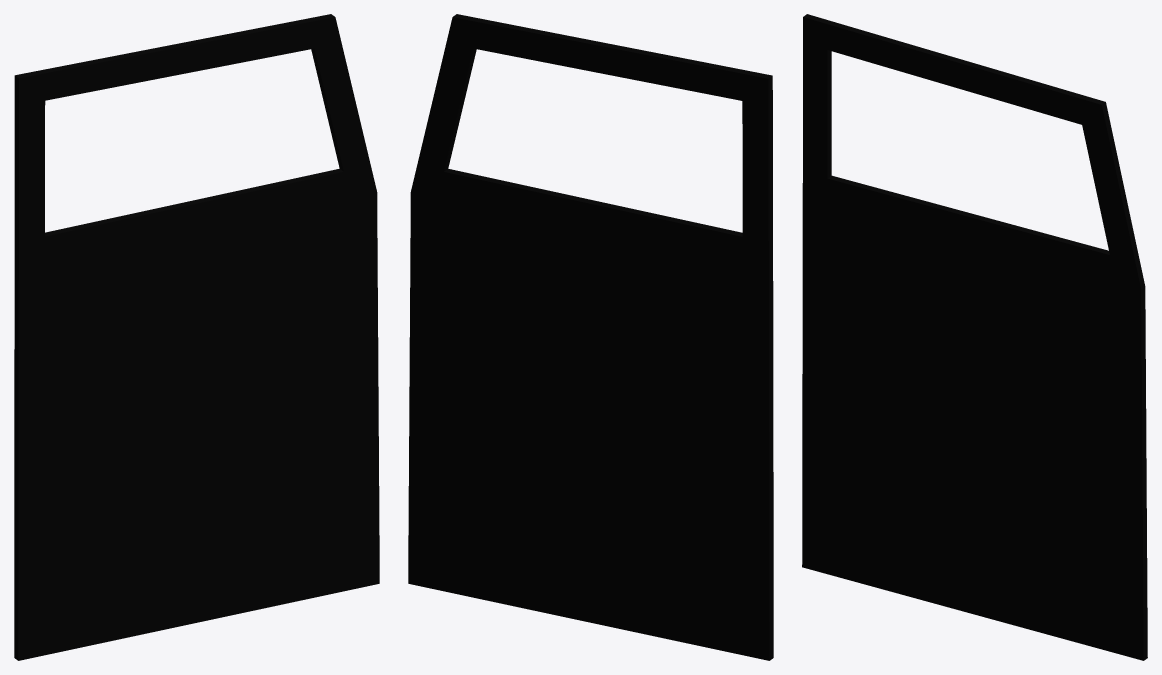
File: JTV Utility Car Front Door.obj
3 renders of one model, left to right at view 1: azimuth 30°, elevation 25°; view 2: azimuth 150°, elevation 25°; view 3: azimuth 330°, elevation 25°, orthographic. The views are drawn at different scales.
Parts seen in each view (by area): view 1: JTV-Front-Door_Cube.003; view 2: JTV-Front-Door_Cube.003; view 3: JTV-Front-Door_Cube.003.
Part boxes in pixels (x1,y1,x2,y2): JTV-Front-Door_Cube.003: [14, 14, 379, 660]; JTV-Front-Door_Cube.003: [408, 14, 773, 660]; JTV-Front-Door_Cube.003: [802, 14, 1147, 660].
Size of the model in its own units: 2.1 by 3.3 by 0.0449.
